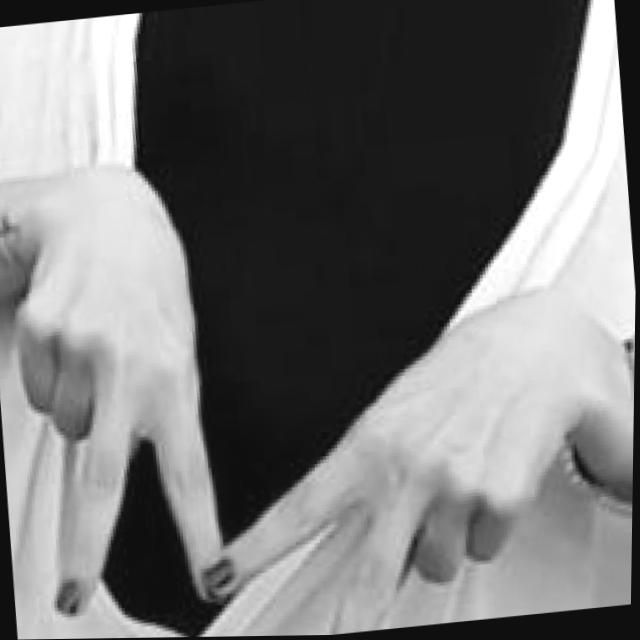M: (0, 120, 604, 640)
